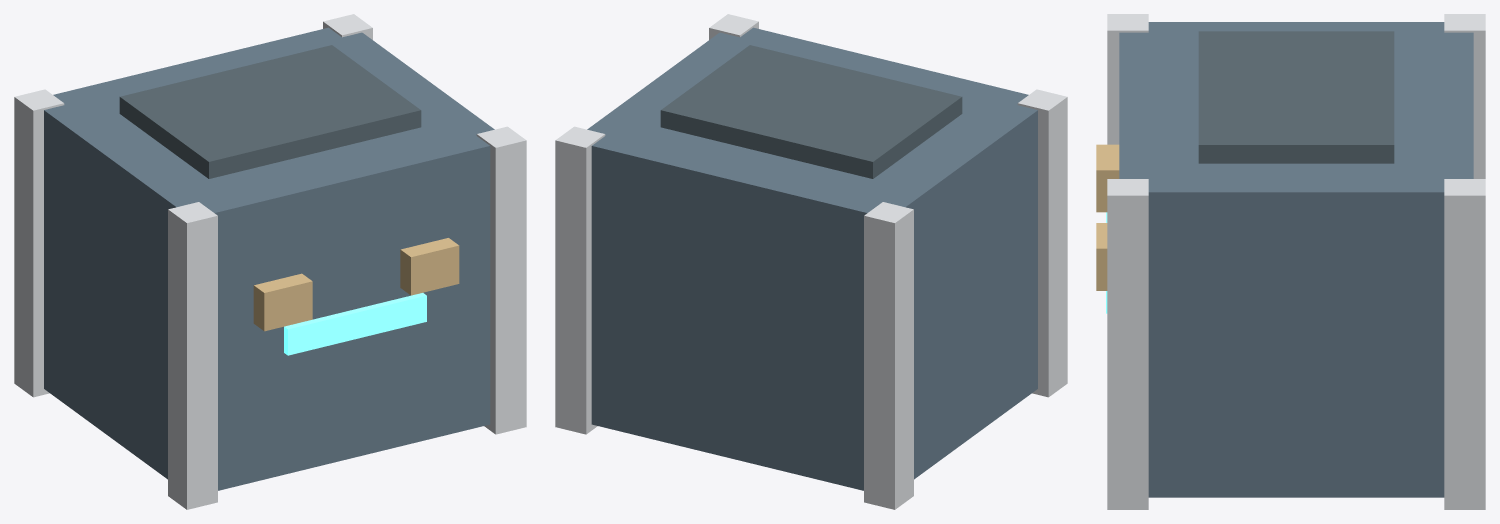
The model's file is cargo_crate_hardcase.glb.
3 views of the same model, side by side, from view 1: azimuth 30°, elevation 25°; view 2: azimuth 150°, elevation 25°; view 3: azimuth 270°, elevation 25° (orthographic). The views are drawn at different scales.
Visible parts, largest first — view 1: cargo_crate_hardcase_000, cargo_crate_hardcase_018, cargo_crate_hardcase_003, cargo_crate_hardcase_005, cargo_crate_hardcase_002, cargo_crate_hardcase_019, cargo_crate_hardcase_016, cargo_crate_hardcase_017, cargo_crate_hardcase_004; view 2: cargo_crate_hardcase_000, cargo_crate_hardcase_018, cargo_crate_hardcase_002, cargo_crate_hardcase_004, cargo_crate_hardcase_003, cargo_crate_hardcase_005; view 3: cargo_crate_hardcase_000, cargo_crate_hardcase_018, cargo_crate_hardcase_004, cargo_crate_hardcase_005, cargo_crate_hardcase_002, cargo_crate_hardcase_003, cargo_crate_hardcase_016, cargo_crate_hardcase_017.
Boxes of the visible parts, <box> form: cargo_crate_hardcase_000: <box>44,27,494,490</box>; cargo_crate_hardcase_018: <box>119,45,421,178</box>; cargo_crate_hardcase_003: <box>168,202,217,509</box>; cargo_crate_hardcase_005: <box>476,126,526,434</box>; cargo_crate_hardcase_002: <box>14,89,64,397</box>; cargo_crate_hardcase_019: <box>284,293,426,355</box>; cargo_crate_hardcase_016: <box>253,273,312,331</box>; cargo_crate_hardcase_017: <box>400,238,459,295</box>; cargo_crate_hardcase_004: <box>323,14,372,39</box>; cargo_crate_hardcase_000: <box>587,27,1037,490</box>; cargo_crate_hardcase_018: <box>660,45,962,178</box>; cargo_crate_hardcase_002: <box>864,202,913,509</box>; cargo_crate_hardcase_004: <box>555,126,605,434</box>; cargo_crate_hardcase_003: <box>1017,89,1067,397</box>; cargo_crate_hardcase_005: <box>709,14,758,39</box>; cargo_crate_hardcase_000: <box>1119,22,1473,497</box>; cargo_crate_hardcase_018: <box>1198,31,1394,163</box>; cargo_crate_hardcase_004: <box>1444,179,1485,509</box>; cargo_crate_hardcase_005: <box>1107,179,1148,509</box>; cargo_crate_hardcase_002: <box>1444,14,1485,178</box>; cargo_crate_hardcase_003: <box>1107,14,1148,144</box>; cargo_crate_hardcase_016: <box>1096,144,1119,212</box>; cargo_crate_hardcase_017: <box>1096,223,1107,290</box>.
Bounding box in the file's own units: 1.76 × 1.5 × 1.59.
